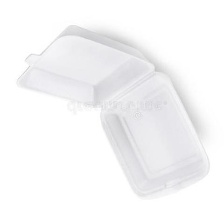foam_box: (12, 19, 214, 205)
